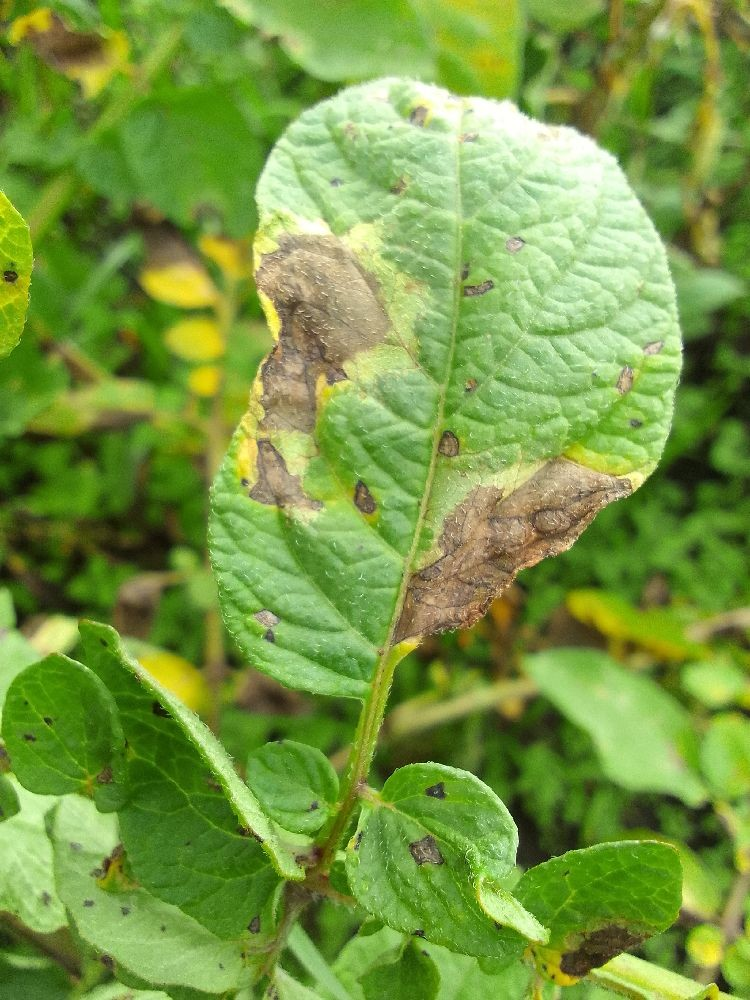late_blight: (356, 421, 719, 723), (114, 188, 410, 528), (0, 431, 208, 664), (521, 0, 750, 161)
